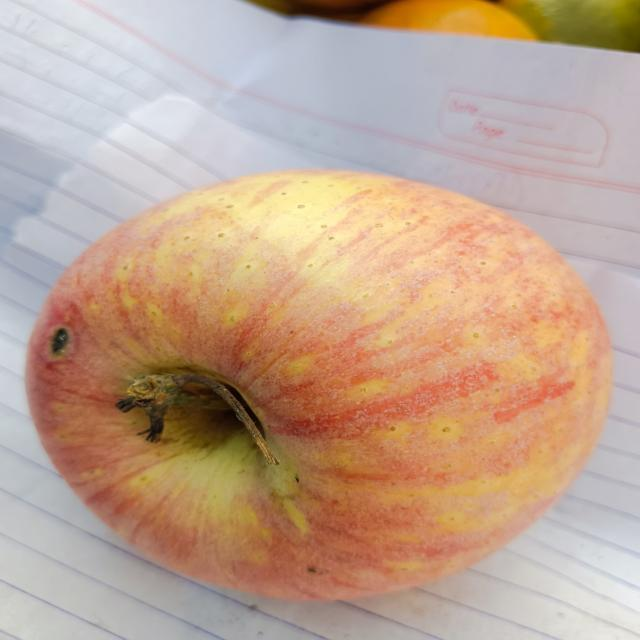Fresh Apple: (29, 163, 622, 603)
